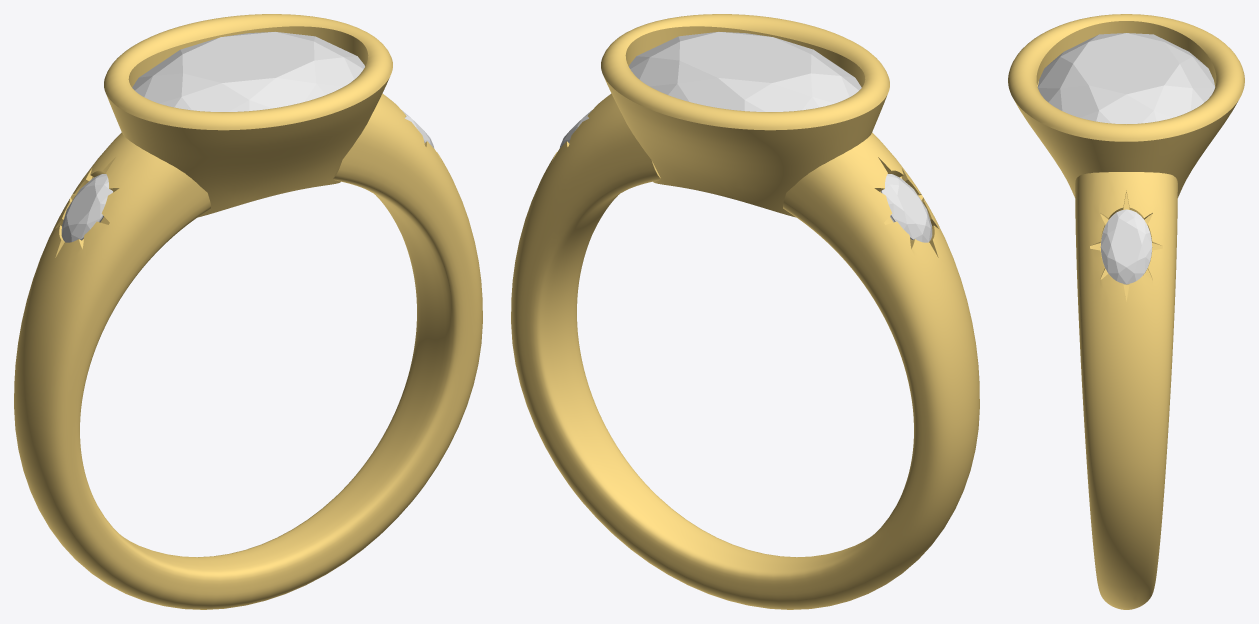
The model's file is SamYGv7EW_blender.glb.
3 renders of one model, left to right at view 1: azimuth 30°, elevation 25°; view 2: azimuth 150°, elevation 25°; view 3: azimuth 270°, elevation 25°, orthographic. The views are drawn at different scales.
Parts seen in each view (by area): view 1: V7 Sam YG for 3d model, V7 Sam dia for 3d model, V7 Sam dia for 3d model.002; view 2: V7 Sam YG for 3d model, V7 Sam dia for 3d model, V7 Sam dia for 3d model.002; view 3: V7 Sam YG for 3d model, V7 Sam dia for 3d model, V7 Sam dia for 3d model.001.
Boxes of the visible parts, box(x1,y1,x2,y2) form: V7 Sam YG for 3d model: box(14, 14, 482, 609); V7 Sam dia for 3d model: box(132, 32, 364, 111); V7 Sam dia for 3d model.002: box(61, 174, 112, 242); V7 Sam YG for 3d model: box(511, 14, 979, 609); V7 Sam dia for 3d model: box(629, 32, 861, 111); V7 Sam dia for 3d model.002: box(880, 174, 932, 242); V7 Sam YG for 3d model: box(1008, 14, 1244, 609); V7 Sam dia for 3d model: box(1037, 33, 1215, 123); V7 Sam dia for 3d model.001: box(1100, 209, 1152, 284).
Bounding box in the file's own units: 19.5 × 22.43 × 9.22.
